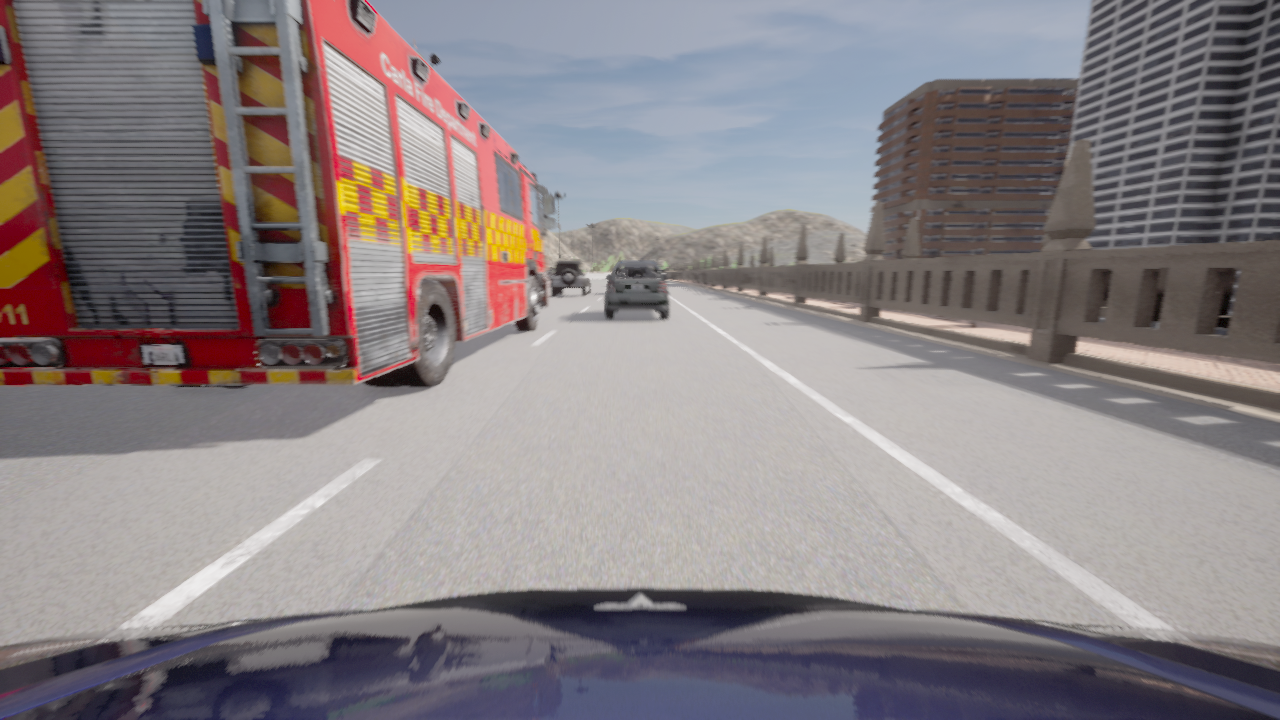cyclist: (0, 588, 1279, 719), (605, 261, 668, 318), (550, 260, 591, 296), (544, 267, 553, 286)
